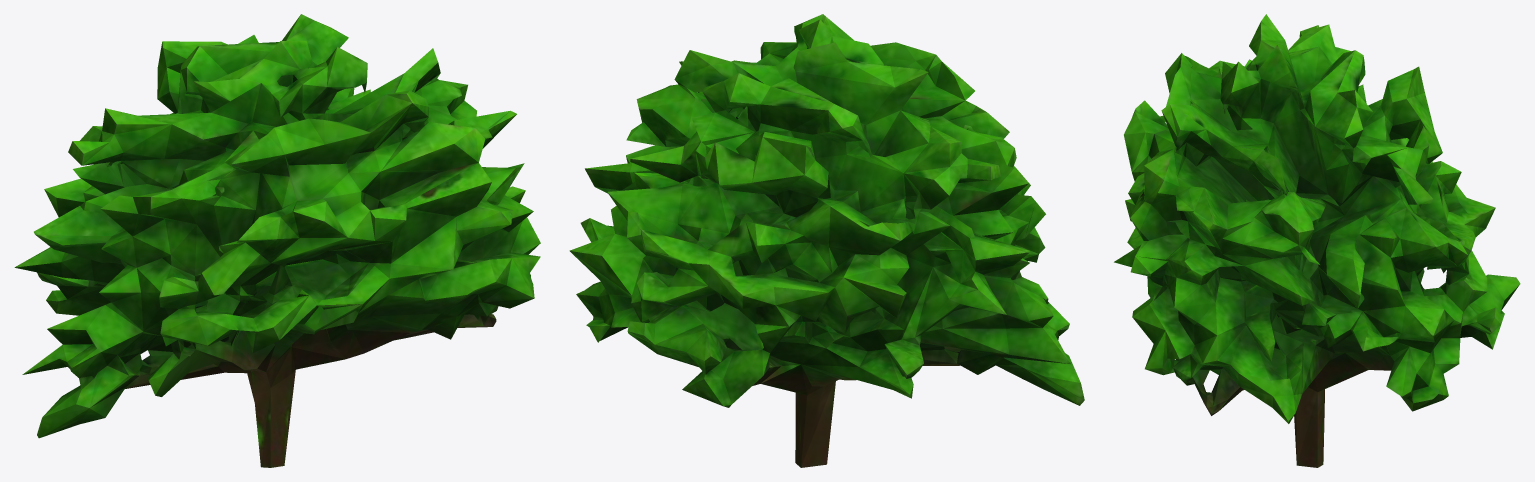
The model's file is arbre1.glb.
3 views of the same model, side by side, from view 1: azimuth 30°, elevation 25°; view 2: azimuth 150°, elevation 25°; view 3: azimuth 270°, elevation 25° (orthographic). The views are drawn at different scales.
Parts seen in each view (by area): view 1: world; view 2: world; view 3: world.
Part boxes in pixels (x1=…): world: x1=14, y1=14, x2=540, y2=467; world: x1=569, y1=14, x2=1084, y2=467; world: x1=1114, y1=14, x2=1520, y2=467.
Size of the model in its own units: 0.9889 by 0.82 by 0.7298.
1 material, 1 textured.
